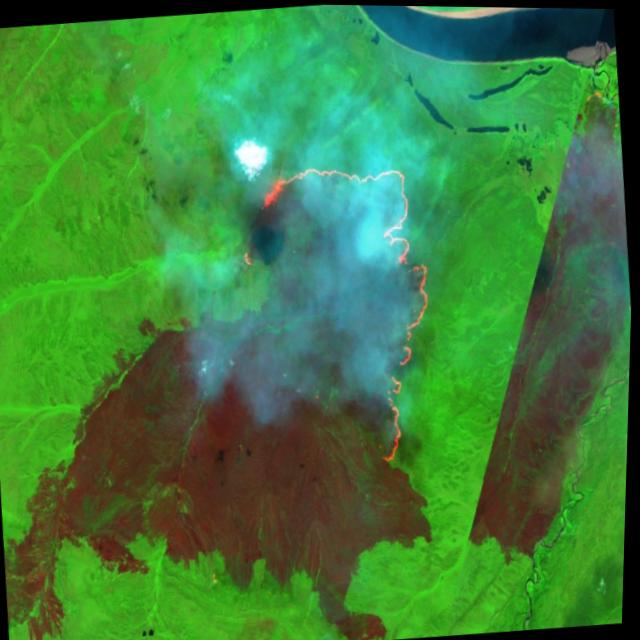fire: (227, 149, 453, 478)
